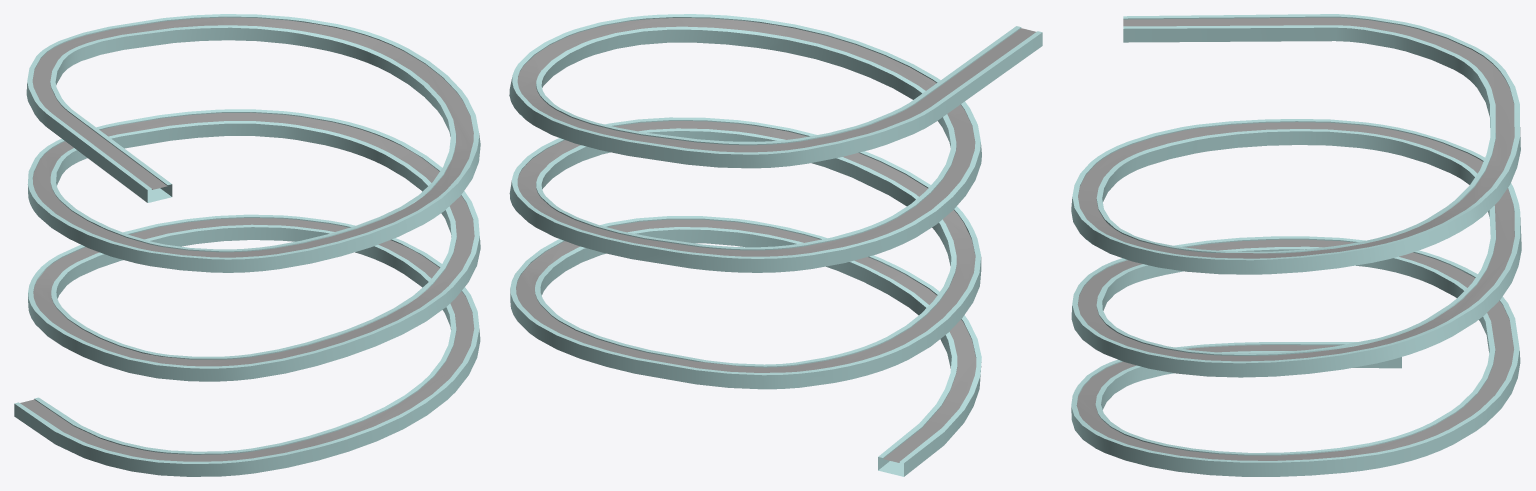
The model's file is spiral2.fbx.
3 views of the same model, side by side, from view 1: azimuth 30°, elevation 25°; view 2: azimuth 150°, elevation 25°; view 3: azimuth 270°, elevation 25° (orthographic). The views are drawn at different scales.
Parts seen in each view (by area): view 1: spiral2; view 2: spiral2; view 3: spiral2.
Boxes of the visible parts, x1,y1,x2,y2 form: spiral2: [14, 14, 480, 476]; spiral2: [509, 14, 1042, 476]; spiral2: [1071, 14, 1521, 476].
Size of the model in its own units: 3213 by 2569 by 3063.
